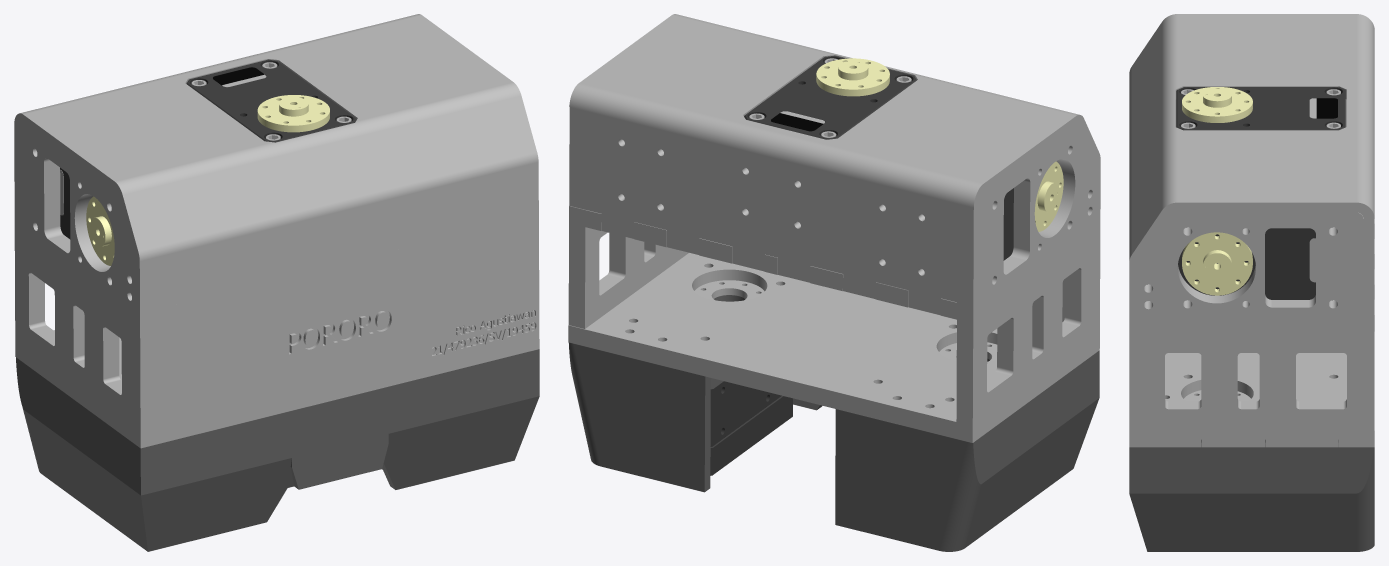
File: PororoHumanoid.obj
The picture shows the model from 3 angles, left to right: view 1: azimuth 30°, elevation 25°; view 2: azimuth 150°, elevation 25°; view 3: azimuth 270°, elevation 25°; orthographic projection. The views are drawn at different scales.
Parts seen in each view (by area): view 1: Solid1:54, Solid1:55, Solid1:50, Solid1:53, Solid1:51, Solid1:49, Solid1:36, Solid1:33, Solid1; view 2: Solid1:55, Solid1:54, Solid1:49, Solid1:32, Solid1:53, Solid1:52, Solid1:51, Solid1:36, Solid1:87, Solid1:75, Solid1:33, Solid1 (+3 smaller); view 3: Solid1:54, Solid1:52, Solid1:55, Solid1:49, Solid1:36, Solid1:19, Solid1:16, Solid1:51, Solid1:33, Solid1:50, Solid1:34.
Part boxes in pixels (left/top/right/bottom): Solid1:54: left=14, top=14, right=538, bottom=313; Solid1:55: left=16, top=349, right=539, bottom=551; Solid1:50: left=131, top=222, right=539, bottom=440; Solid1:53: left=14, top=124, right=134, bottom=434; Solid1:51: left=24, top=214, right=538, bottom=330; Solid1:49: left=15, top=330, right=539, bottom=448; Solid1:36: left=186, top=59, right=356, bottom=142; Solid1:33: left=257, top=95, right=329, bottom=132; Solid1: left=86, top=196, right=114, bottom=265; Solid1:55: left=568, top=342, right=1099, bottom=551; Solid1:54: left=569, top=14, right=1100, bottom=217; Solid1:49: left=568, top=253, right=1099, bottom=442; Solid1:32: left=585, top=111, right=957, bottom=315; Solid1:53: left=956, top=126, right=1094, bottom=428; Solid1:52: left=568, top=107, right=688, bottom=328; Solid1:51: left=569, top=206, right=1100, bottom=323; Solid1:36: left=744, top=56, right=916, bottom=139; Solid1:87: left=710, top=381, right=781, bottom=446; Solid1:75: left=710, top=395, right=792, bottom=475; Solid1:33: left=816, top=58, right=889, bottom=96; Solid1: left=1034, top=161, right=1063, bottom=231; Solid1:54: left=1129, top=14, right=1374, bottom=314; Solid1:52: left=1139, top=212, right=1374, bottom=447; Solid1:55: left=1129, top=442, right=1374, bottom=551; Solid1:49: left=1129, top=332, right=1374, bottom=447; Solid1:36: left=1176, top=87, right=1345, bottom=130; Solid1:19: left=1178, top=228, right=1315, bottom=299; Solid1:16: left=1182, top=232, right=1252, bottom=295; Solid1:51: left=1129, top=219, right=1374, bottom=331; Solid1:33: left=1182, top=87, right=1252, bottom=122; Solid1:50: left=1129, top=331, right=1147, bottom=430; Solid1:34: left=1316, top=98, right=1337, bottom=118.
Bounding box in the file's own units: 0.1244 × 0.1162 × 0.0675.
